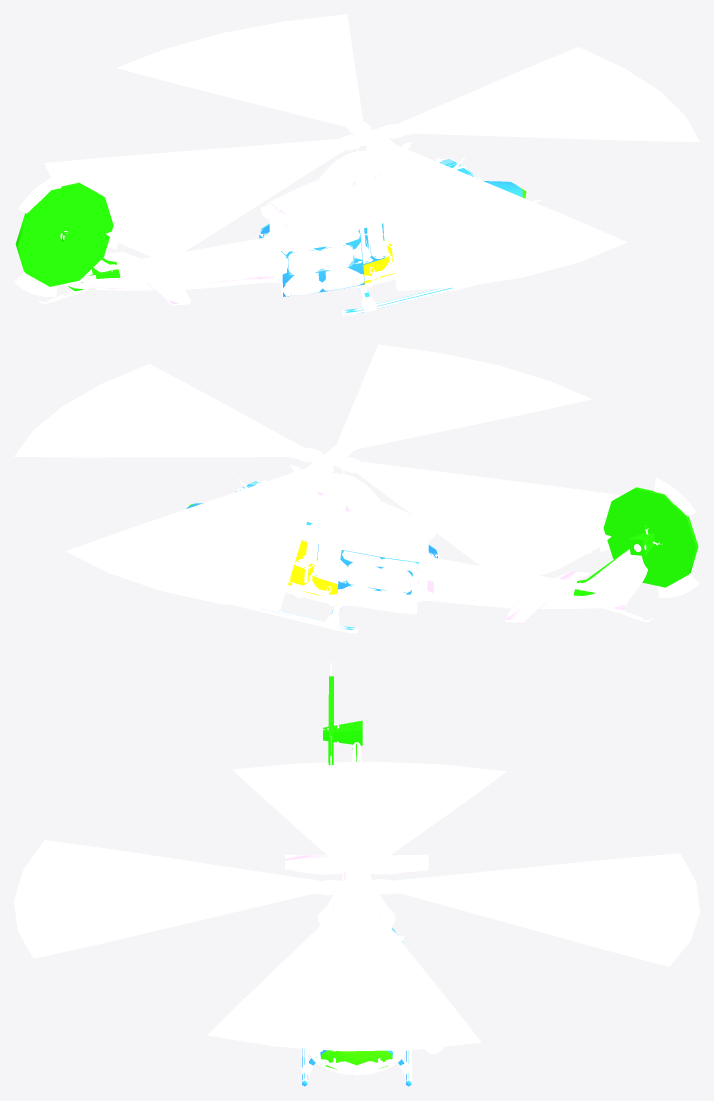
3 views of the same model, one above another, from view 1: azimuth 30°, elevation 25°; view 2: azimuth 150°, elevation 25°; view 3: azimuth 270°, elevation 25° (orthographic). The views are drawn at different scales.
Parts seen in each view (by area): view 1: Heli1, CH-146_tail_engine_col_2, CH_146_col_1, CH_146_col; view 2: Heli1, CH-146_tail_engine_col_2, CH_146_col_1, CH_146_col_4, CH_146_col; view 3: Heli1, CH_146_col_1, CH-146_tail_engine_col_2, CH_146_col_3.
Part boxes in pixels (bbox=[...]): Heli1: bbox=[14, 14, 699, 315]; CH-146_tail_engine_col_2: bbox=[15, 182, 120, 291]; CH_146_col_1: bbox=[65, 151, 454, 305]; CH_146_col: bbox=[259, 159, 522, 315]; Heli1: bbox=[14, 344, 699, 633]; CH-146_tail_engine_col_2: bbox=[573, 487, 698, 595]; CH_146_col_1: bbox=[311, 474, 645, 623]; CH_146_col_4: bbox=[288, 540, 337, 603]; CH_146_col: bbox=[186, 481, 437, 629]; Heli1: bbox=[14, 662, 699, 1085]; CH_146_col_1: bbox=[285, 855, 428, 915]; CH-146_tail_engine_col_2: bbox=[323, 676, 362, 765]; CH_146_col_3: bbox=[316, 1050, 392, 1069].
Size of the model in its own units: 16.98 by 5.01 by 14.67.
